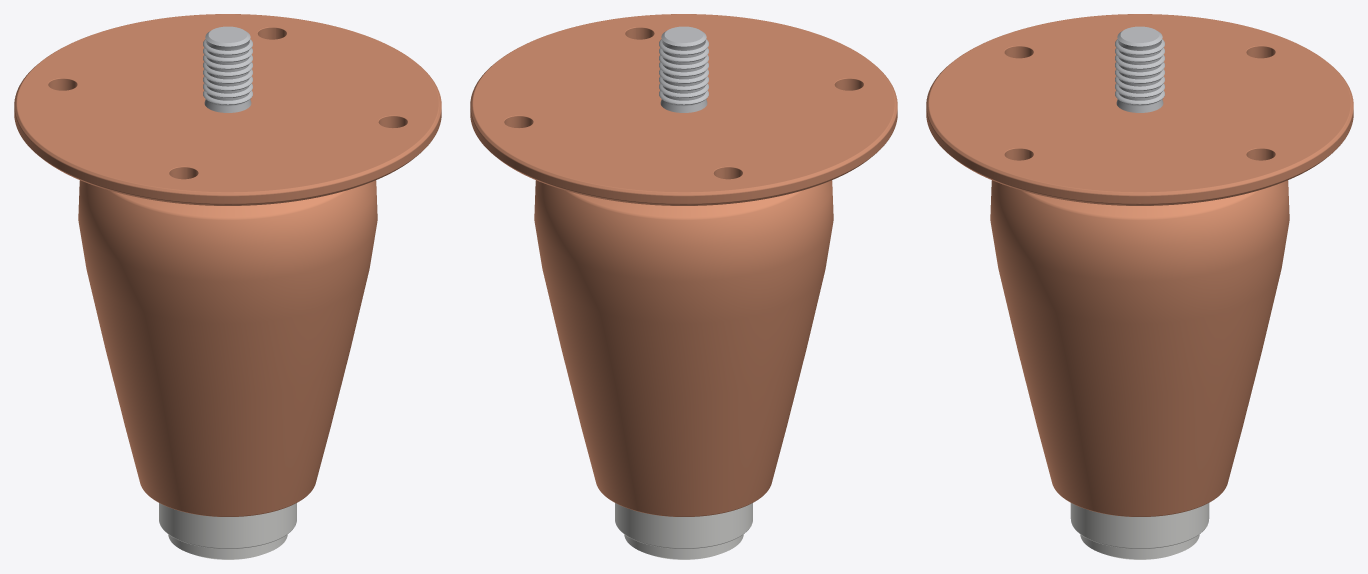
Rendered from sofa-legs-1265.glb.
3 views of the same model, side by side, from view 1: azimuth 30°, elevation 25°; view 2: azimuth 150°, elevation 25°; view 3: azimuth 270°, elevation 25° (orthographic).
Visible parts, largest first — view 1: Body, Plate, Stud, Glide; view 2: Body, Plate, Stud, Glide; view 3: Body, Plate, Stud, Glide.
Boxes of the visible parts, <box> form: Body: <box>78,180,377,548</box>; Plate: <box>14,14,441,205</box>; Stud: <box>203,26,252,112</box>; Glide: <box>168,534,287,559</box>; Body: <box>534,180,833,548</box>; Plate: <box>470,14,897,205</box>; Stud: <box>659,26,708,112</box>; Glide: <box>624,534,743,559</box>; Body: <box>990,180,1289,548</box>; Plate: <box>926,14,1353,205</box>; Stud: <box>1115,26,1164,112</box>; Glide: <box>1080,534,1199,559</box>.
Size of the model in its own units: 0.068 by 0.0882 by 0.068.
